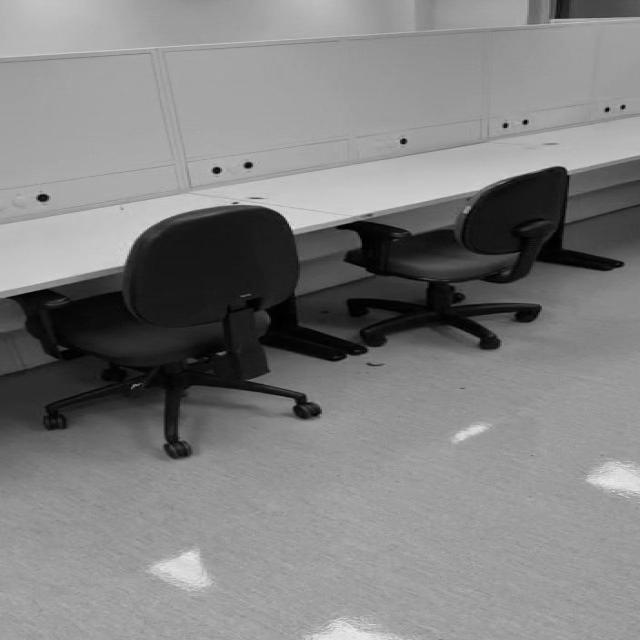chair: (8, 205, 322, 458)
